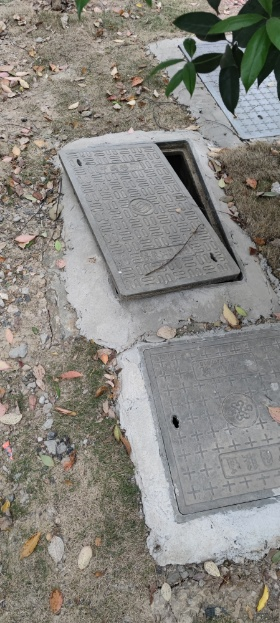good: (138, 325, 280, 523)
uncovered: (57, 135, 253, 305)
